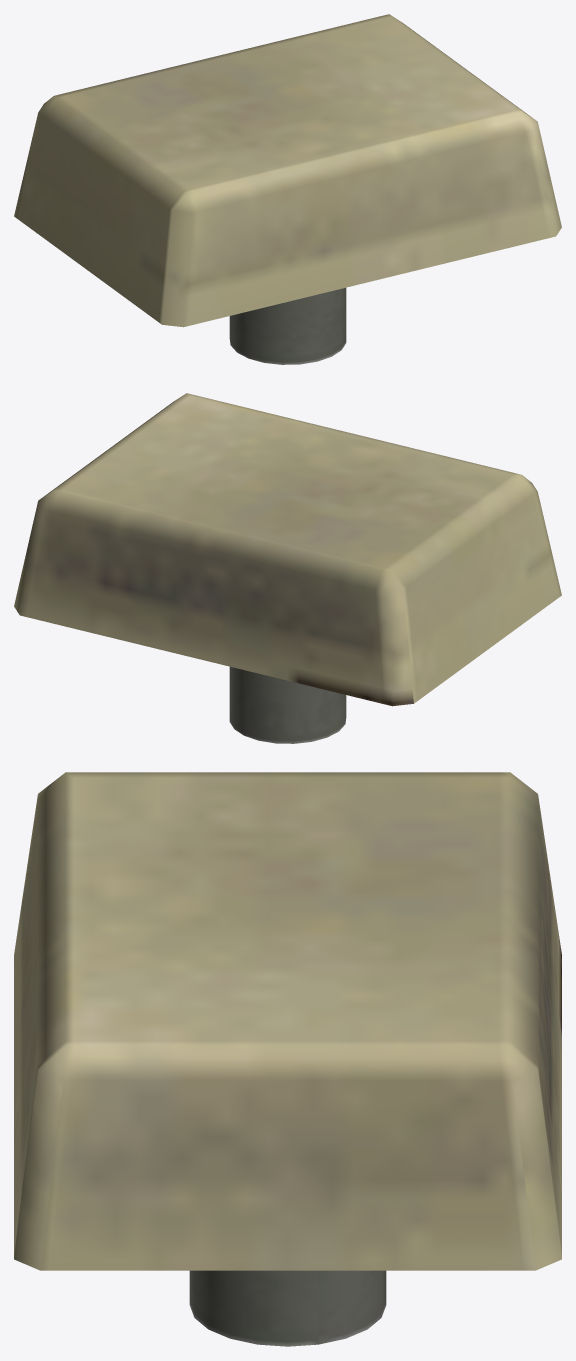
File: sm73_133_blankkey01a.fbx
3 renders of one model, top to bottom at view 1: azimuth 30°, elevation 25°; view 2: azimuth 150°, elevation 25°; view 3: azimuth 270°, elevation 25°, orthographic. The views are drawn at different scales.
Visible parts, largest first — view 1: LOD_1_Group_0_Sub_2__sm73_133_BlankKey01A_B_Mat, LOD_1_Group_0_Sub_1__sm73_133_BlankKey01A_A_Mat; view 2: LOD_1_Group_0_Sub_2__sm73_133_BlankKey01A_B_Mat, LOD_1_Group_0_Sub_1__sm73_133_BlankKey01A_A_Mat; view 3: LOD_1_Group_0_Sub_2__sm73_133_BlankKey01A_B_Mat, LOD_1_Group_0_Sub_1__sm73_133_BlankKey01A_A_Mat.
Part boxes in pixels (left/top/right/bottom): LOD_1_Group_0_Sub_2__sm73_133_BlankKey01A_B_Mat: left=14, top=14, right=561, bottom=327; LOD_1_Group_0_Sub_1__sm73_133_BlankKey01A_A_Mat: left=229, top=287, right=346, bottom=364; LOD_1_Group_0_Sub_2__sm73_133_BlankKey01A_B_Mat: left=14, top=393, right=561, bottom=706; LOD_1_Group_0_Sub_1__sm73_133_BlankKey01A_A_Mat: left=229, top=666, right=346, bottom=743; LOD_1_Group_0_Sub_2__sm73_133_BlankKey01A_B_Mat: left=14, top=772, right=561, bottom=1270; LOD_1_Group_0_Sub_1__sm73_133_BlankKey01A_A_Mat: left=189, top=1270, right=386, bottom=1346.
Bounding box in the file's own units: 5.21 × 2.95 × 3.7.
